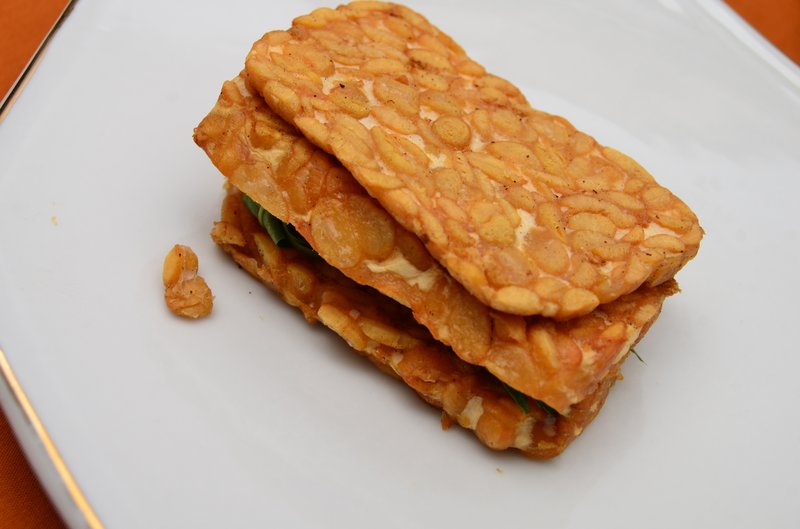Tempe: (227, 41, 715, 307), (196, 141, 561, 402), (232, 252, 554, 471)
